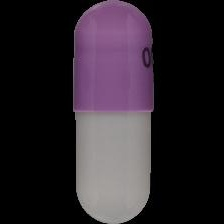50090-1157: (0, 0, 224, 224)
